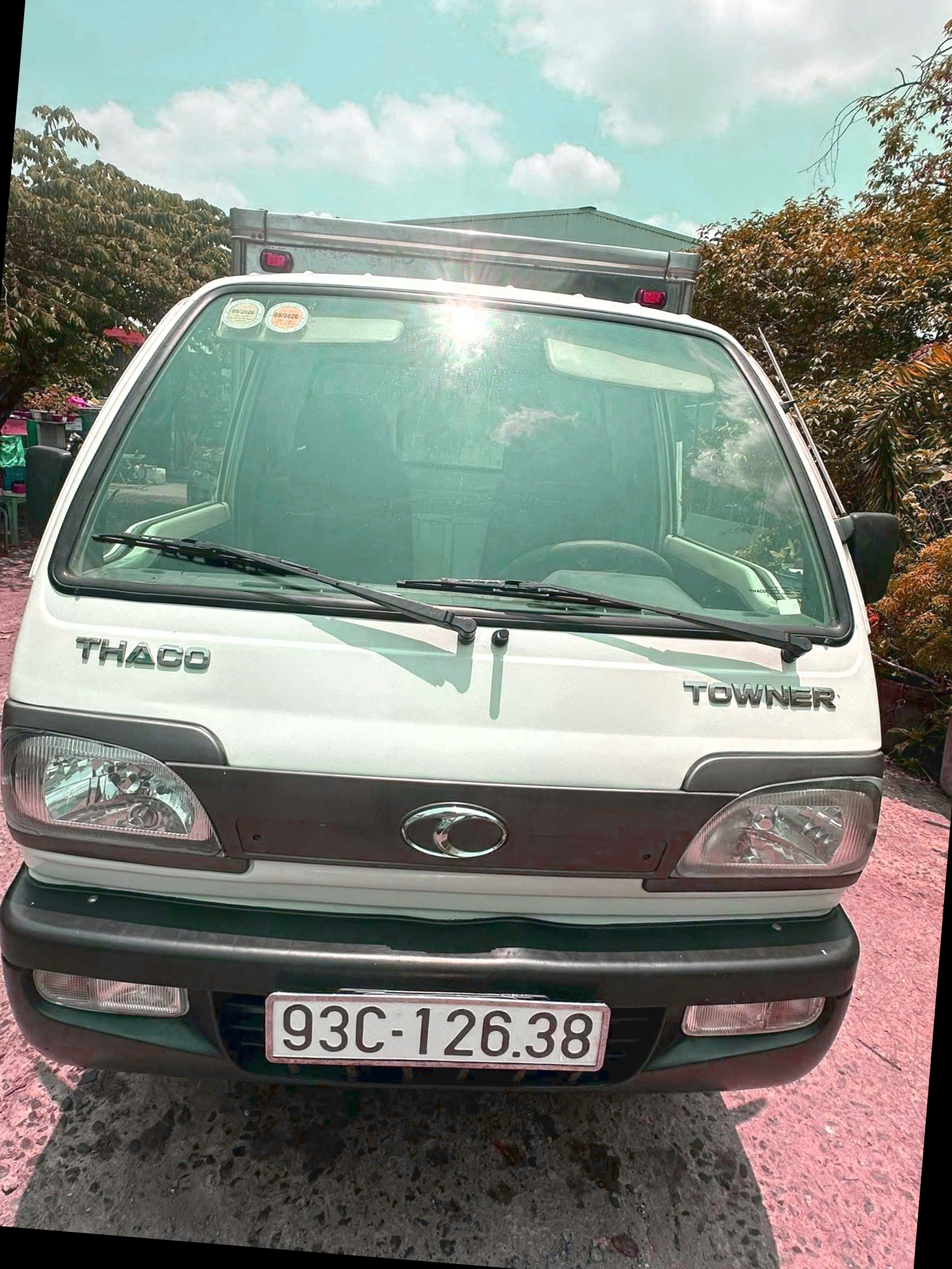Bien-so: (267, 978, 605, 1092)
